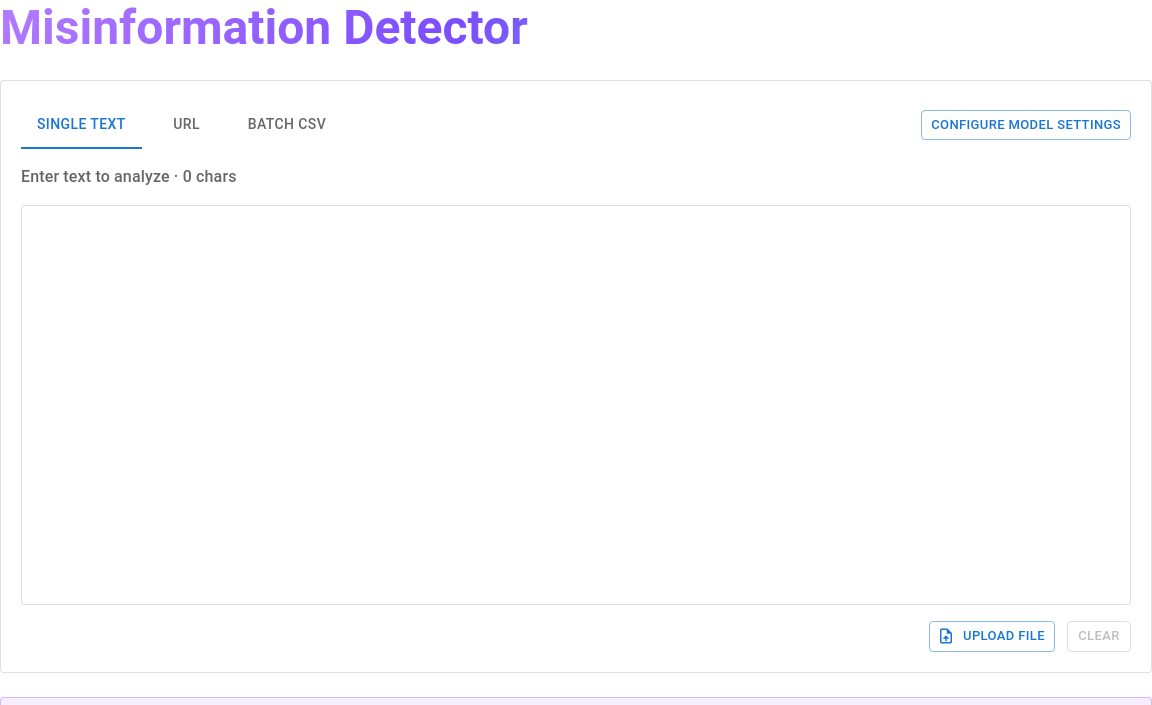
Scenario: PredictPage › switching to CSV tab shows upload area
What coordinates should you click on to do the following:
click the tab "Batch CSV"
I would click on:
 (287, 125)
Its box is [232,101,342,149].
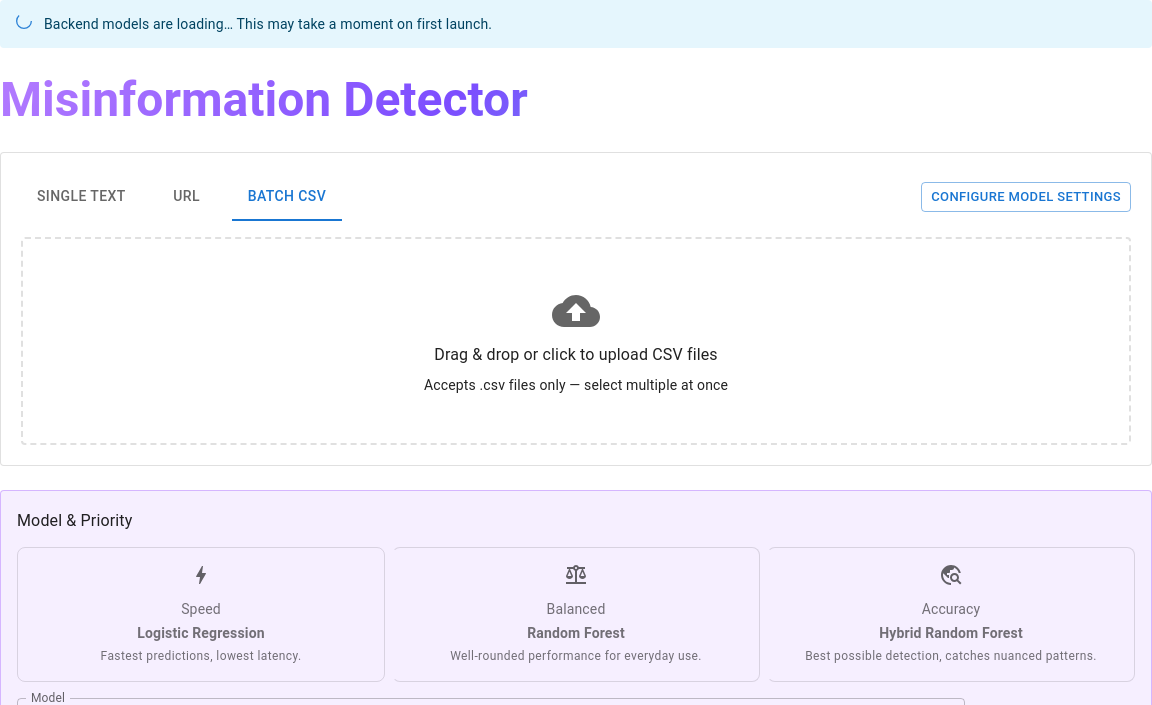
Expected: the text "Drag & drop or click to upload CSV files" is shown, [434,343,718,367]
